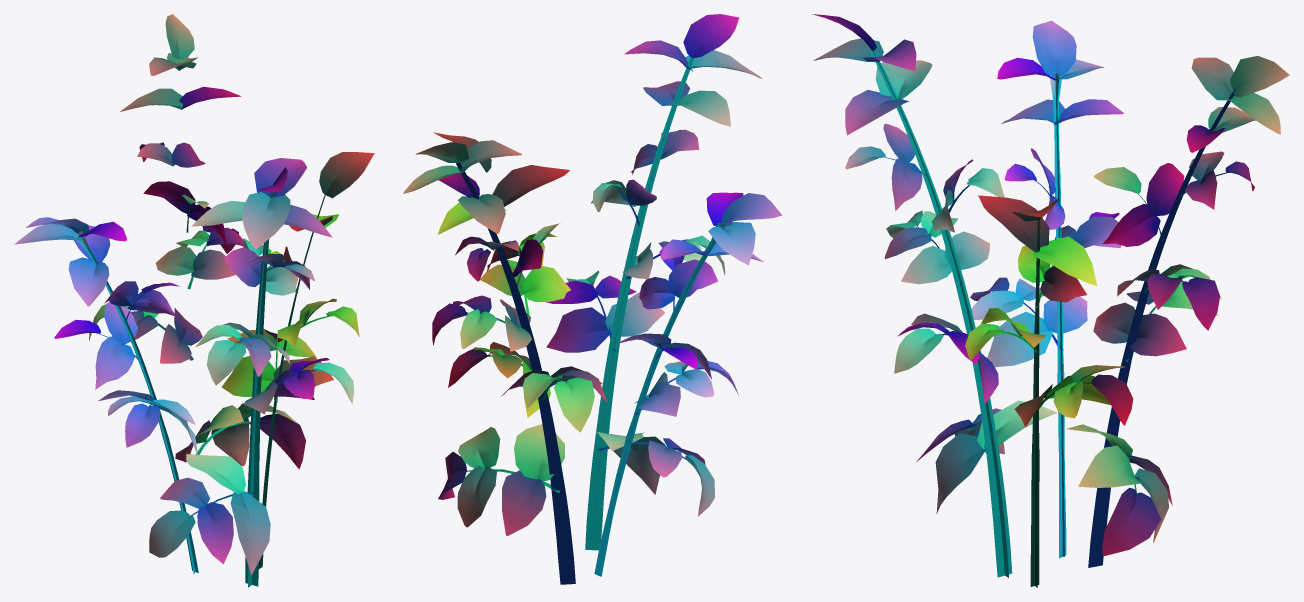
Rendered from Raspberry_wf0oefeja_High_wf0oefeja_VarA_LOD0.fbx.
3 views of the same model, side by side, from view 1: azimuth 30°, elevation 25°; view 2: azimuth 150°, elevation 25°; view 3: azimuth 270°, elevation 25° (orthographic). The views are drawn at different scales.
Visible parts, largest first — view 1: _fy53_VarA_LOD0; view 2: _fy53_VarA_LOD0; view 3: _fy53_VarA_LOD0.
Part boxes in pixels (box(x1,y1,x2,y2)): _fy53_VarA_LOD0: box(14, 14, 374, 587); _fy53_VarA_LOD0: box(403, 14, 782, 584); _fy53_VarA_LOD0: box(812, 14, 1289, 587).
Size of the model in its own units: 29.31 by 38.74 by 31.22.
